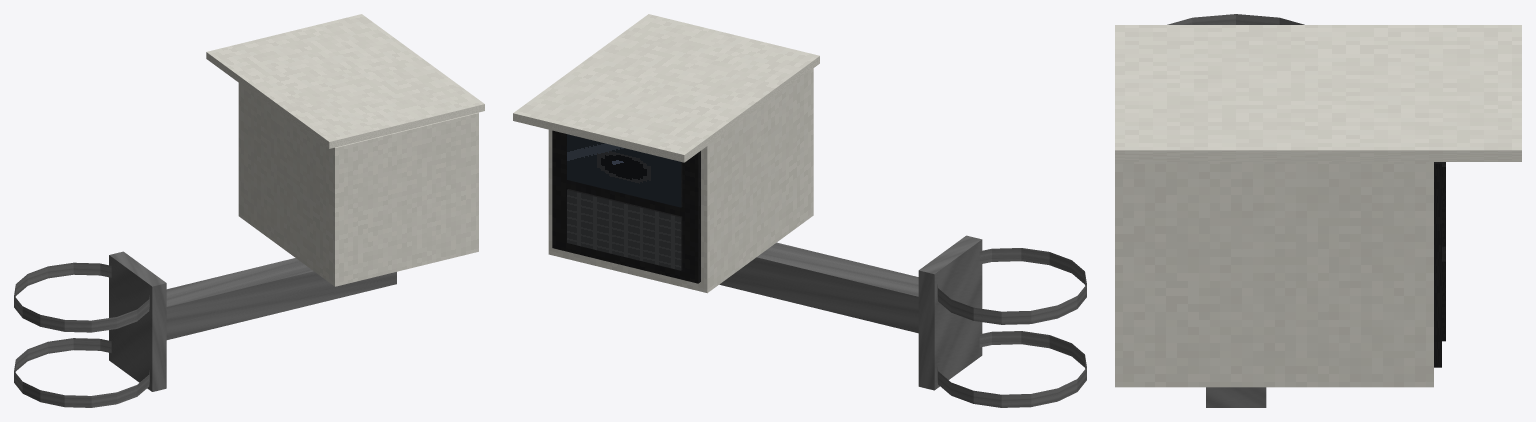
The model's file is speed_camera_side_left_pedestal.obj.
3 renders of one model, left to right at view 1: azimuth 30°, elevation 25°; view 2: azimuth 150°, elevation 25°; view 3: azimuth 270°, elevation 25°, orthographic. The views are drawn at different scales.
Parts seen in each view (by area): view 1: speed_camera_side_left_pedestal; view 2: speed_camera_side_left_pedestal; view 3: speed_camera_side_left_pedestal.
Boxes of the visible parts, x1,y1,x2,y2 form: speed_camera_side_left_pedestal: [14, 14, 484, 407]; speed_camera_side_left_pedestal: [513, 14, 1086, 407]; speed_camera_side_left_pedestal: [1115, 14, 1521, 407].
Size of the model in its own units: 1.48 by 0.735 by 0.74.
